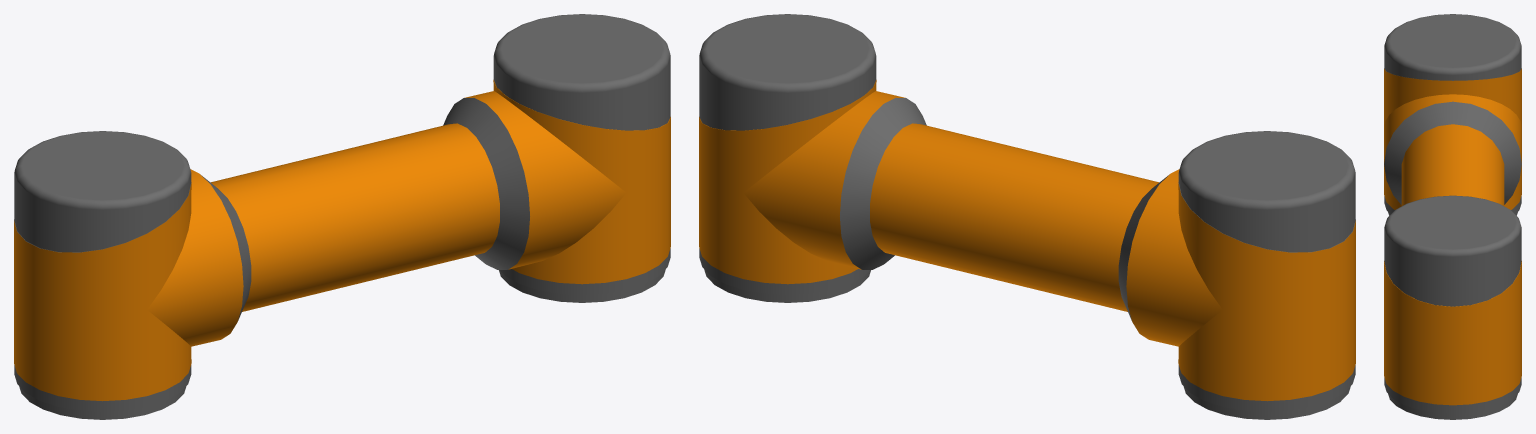
3 views of the same model, side by side, from view 1: azimuth 30°, elevation 25°; view 2: azimuth 150°, elevation 25°; view 3: azimuth 270°, elevation 25° (orthographic). The views are drawn at different scales.
Parts seen in each view (by area): view 1: NONE; view 2: NONE; view 3: NONE.
Part boxes in pixels (left/top/right/bottom): NONE: left=14, top=14, right=670, bottom=419; NONE: left=699, top=14, right=1355, bottom=419; NONE: left=1384, top=14, right=1521, bottom=419.
Bounding box in the file's own units: 0.486 × 0.118 × 0.1603.
